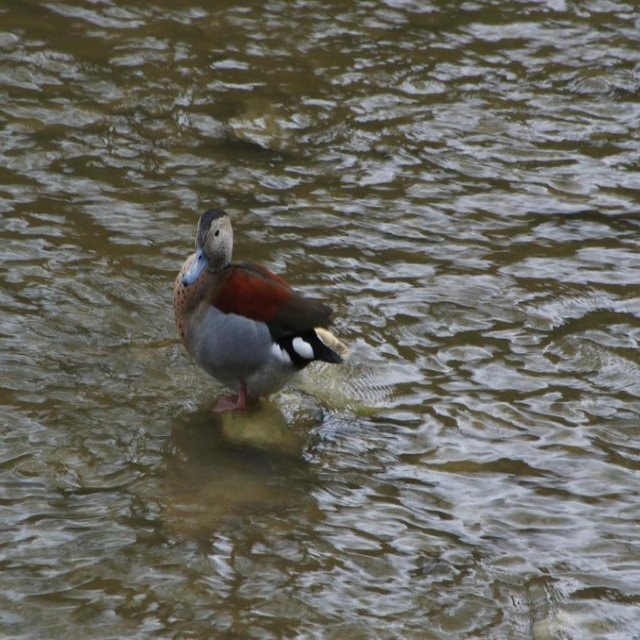Duck: (166, 202, 347, 418)
